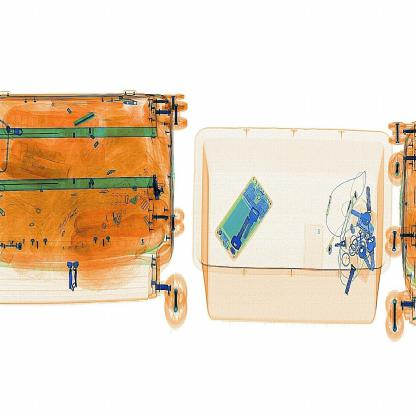pliers: (143, 170, 166, 206)
